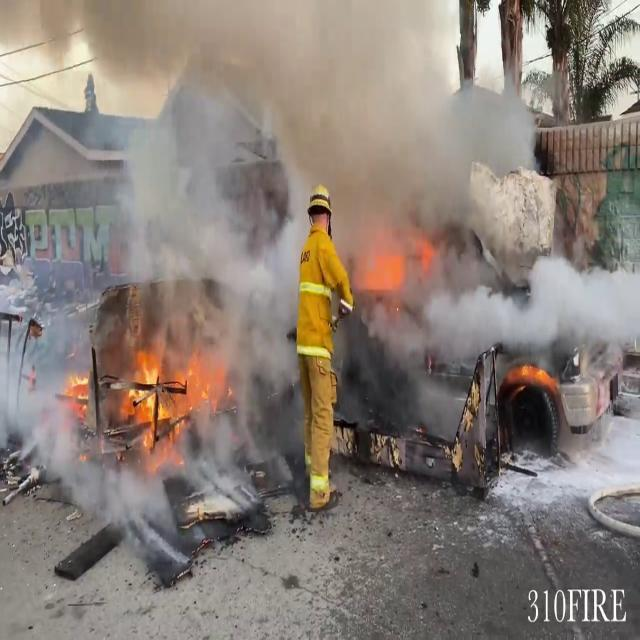Fire: (119, 338, 232, 464)
Smoke: (4, 0, 597, 366)
